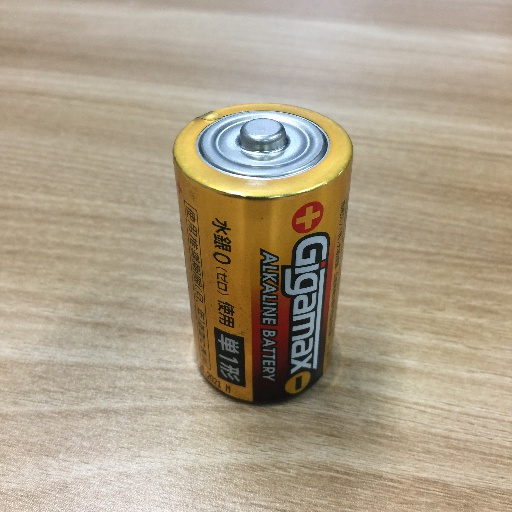Battery_0: (163, 89, 358, 420)
